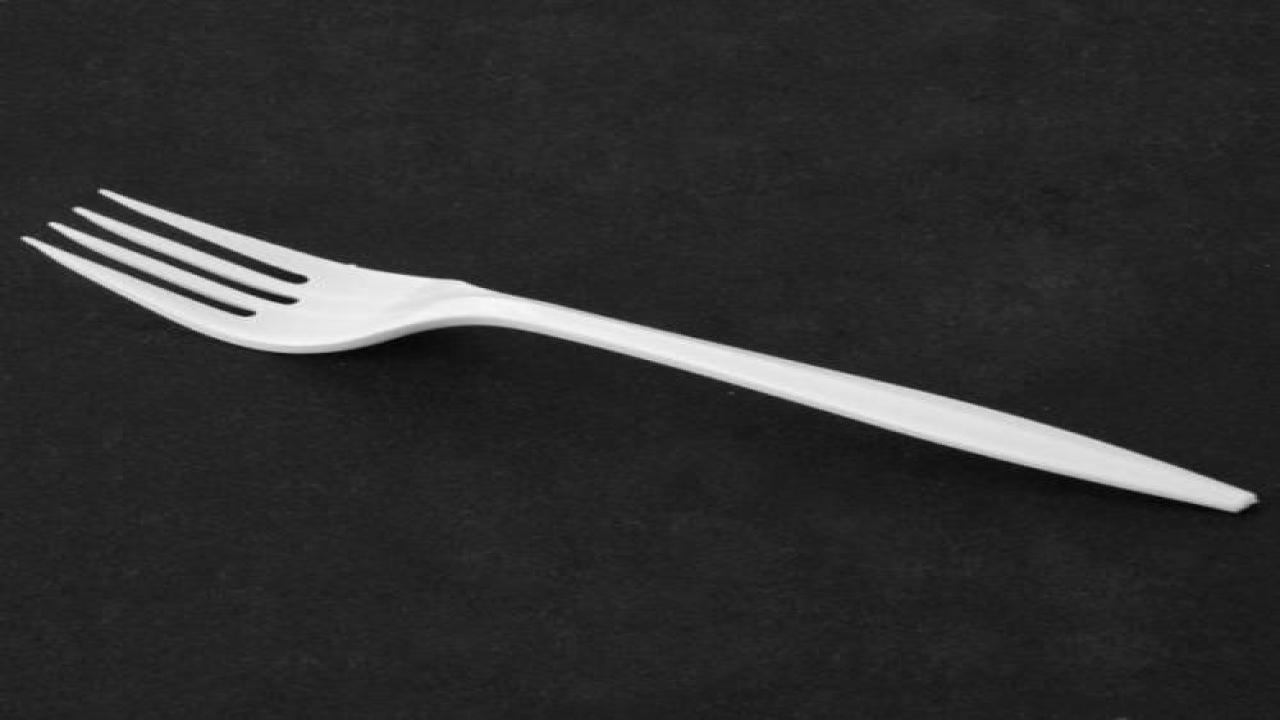fork: (18, 184, 1259, 514)
